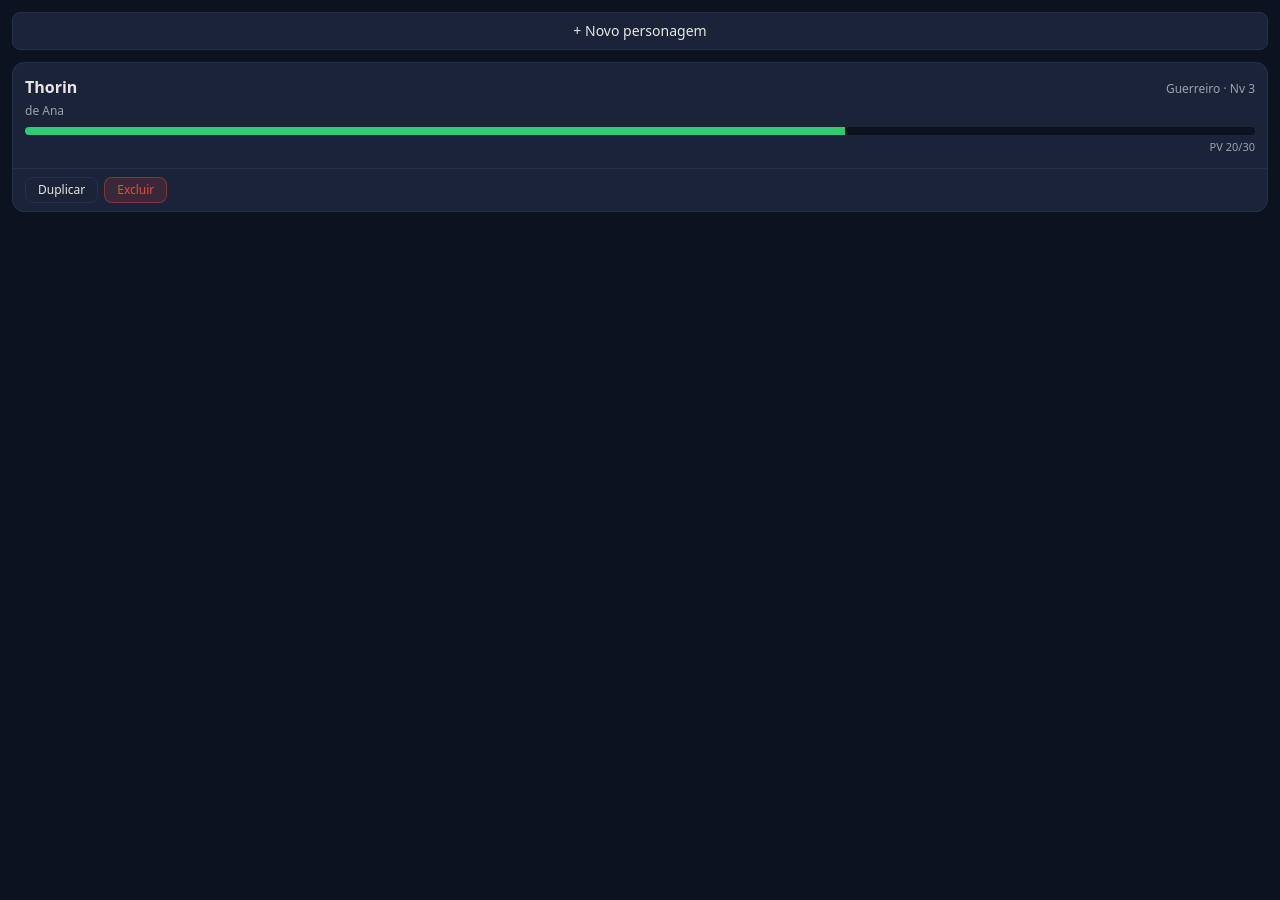
Test: exclusão pede confirmação em diálogo acessível (RV-093) › Esc fecha sem excluir
This screenshot has width=1280, height=900.
Expected: the text "Thorin" is shown, [25, 75, 77, 99]
Click the button with aria-label "Excluir Thorin" at (136, 190), box [104, 176, 167, 202]
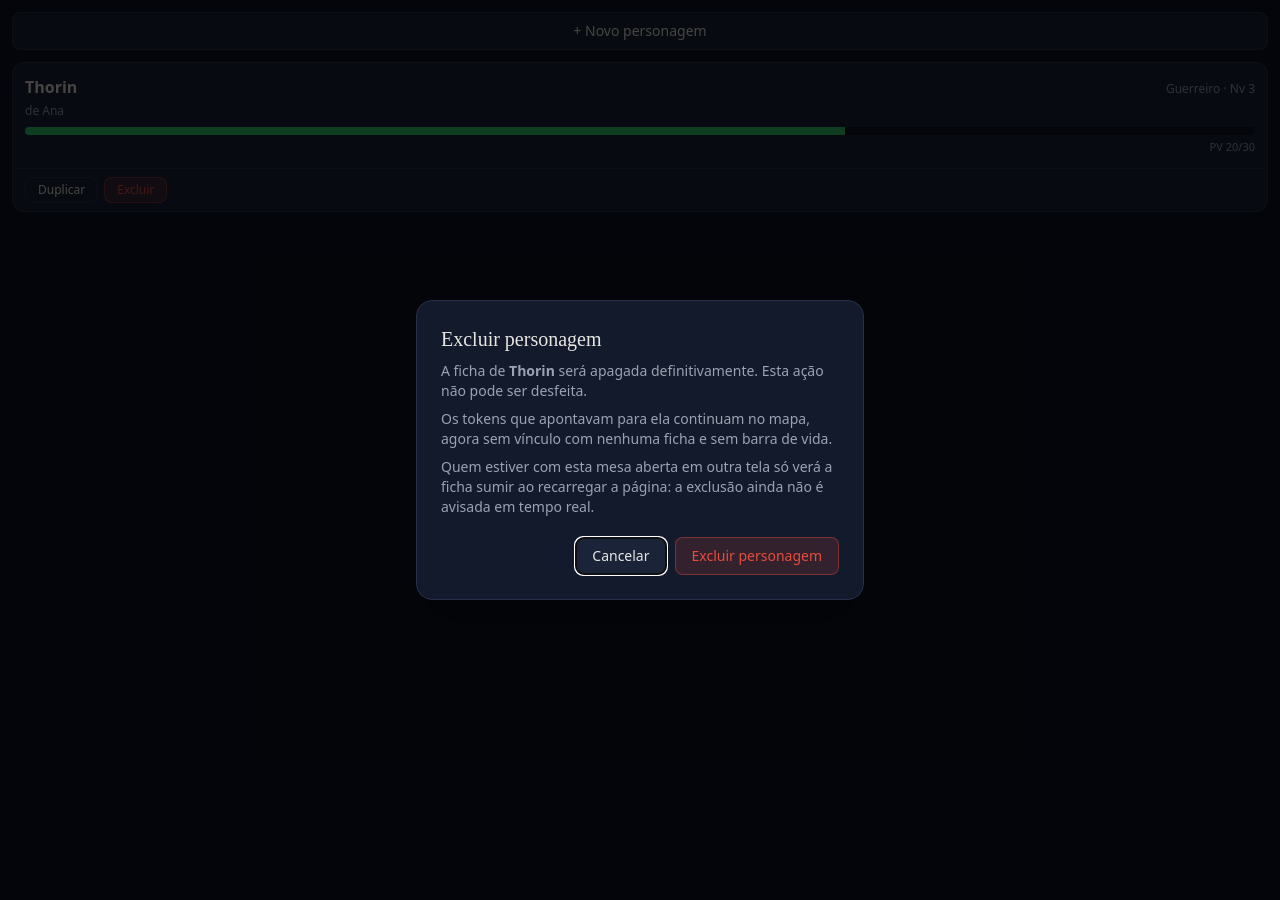
Press Escape
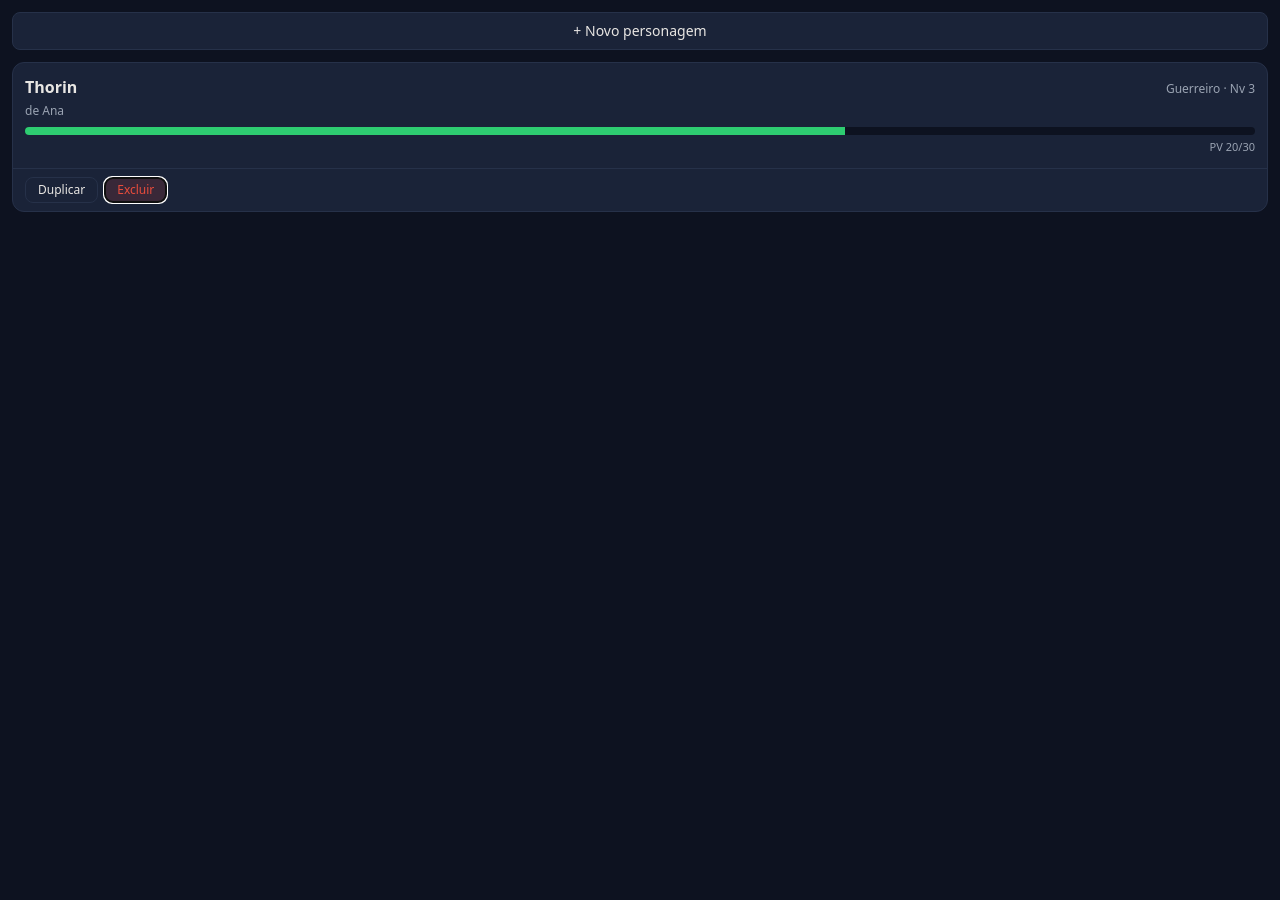
Result: the dialog is gone
